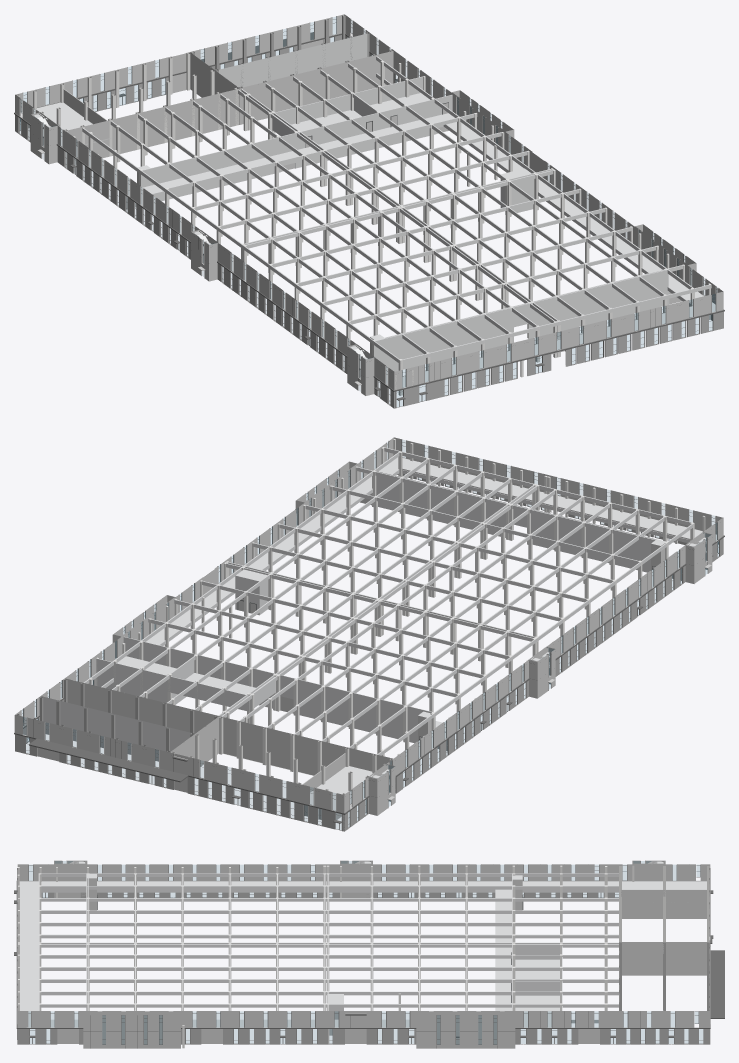
The model's file is source-lower.glb.
3 renders of one model, top to bottom at view 1: azimuth 30°, elevation 25°; view 2: azimuth 150°, elevation 25°; view 3: azimuth 270°, elevation 25°, orthographic. The views are drawn at different scales.
Parts seen in each view (by area): view 1: src_lower_5, src_lower_3, src_lower_10, src_lower_1, src_lower_0, src_lower_2, src_lower_11, src_lower_6; view 2: src_lower_5, src_lower_3, src_lower_10, src_lower_1, src_lower_0, src_lower_2, src_lower_11, src_lower_6; view 3: src_lower_5, src_lower_3, src_lower_10, src_lower_1, src_lower_0, src_lower_2, src_lower_6, src_lower_11, src_lower_4.
Boxes of the visible parts, box(x1,y1,x2,y2) form: src_lower_5: box(21, 33, 715, 387); src_lower_3: box(15, 14, 723, 395); src_lower_10: box(16, 52, 710, 395); src_lower_1: box(15, 35, 723, 408); src_lower_0: box(14, 16, 724, 407); src_lower_2: box(20, 17, 714, 406); src_lower_11: box(190, 14, 393, 88); src_lower_6: box(126, 39, 681, 354); src_lower_5: box(43, 447, 716, 810); src_lower_3: box(14, 437, 723, 819); src_lower_10: box(73, 439, 705, 830); src_lower_1: box(15, 474, 723, 831); src_lower_0: box(14, 439, 724, 830); src_lower_2: box(22, 440, 718, 829); src_lower_11: box(16, 678, 218, 787); src_lower_6: box(37, 493, 681, 792); src_lower_5: box(19, 861, 706, 1035); src_lower_3: box(17, 860, 710, 1048); src_lower_10: box(17, 865, 709, 1048); src_lower_1: box(17, 892, 710, 1044); src_lower_0: box(14, 861, 724, 1044); src_lower_2: box(29, 861, 702, 1043); src_lower_6: box(57, 1011, 599, 1043); src_lower_11: box(619, 942, 709, 1010); src_lower_4: box(83, 1011, 640, 1048).
Size of the model in its own units: 102 by 10.2 by 197.
